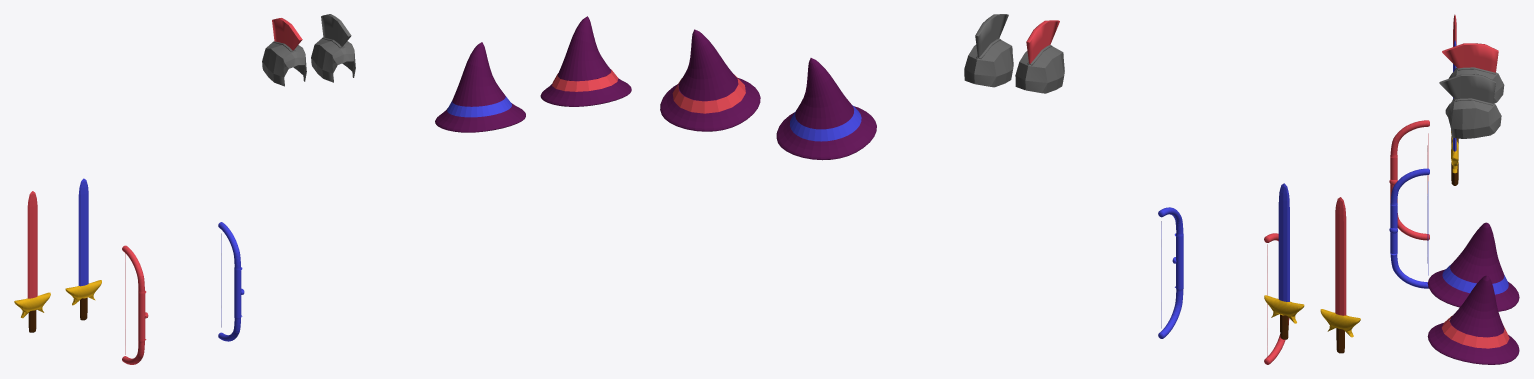
Rendered from HeroWeaponsAndOutfits.fbx.
3 views of the same model, side by side, from view 1: azimuth 30°, elevation 25°; view 2: azimuth 150°, elevation 25°; view 3: azimuth 270°, elevation 25° (orthographic). The views are drawn at different scales.
Visible parts, largest first — view 1: Blue Wiz, Red Wiz, Red Knight, Blue Knight, Blue Sword, Red Sword, Red Bow, Blue Bow, Cube.006; view 2: Blue Wiz, Red Wiz, Red Knight, Blue Knight, Blue Sword, Red Sword, Blue Bow, Cube.006; view 3: Red Wiz, Blue Wiz, Blue Knight, Red Knight, Blue Bow, Red Bow, Cube.006, Blue Sword, Red Sword.
Part boxes in pixels (<box>): Blue Wiz: <box>435,42,525,132</box>; Red Wiz: <box>540,16,631,106</box>; Red Knight: <box>262,18,306,86</box>; Blue Knight: <box>311,14,355,82</box>; Blue Sword: <box>65,178,101,320</box>; Red Sword: <box>14,191,50,332</box>; Red Bow: <box>122,245,148,364</box>; Blue Bow: <box>218,222,244,341</box>; Cube.006: <box>552,69,618,91</box>; Blue Wiz: <box>776,58,876,160</box>; Red Wiz: <box>660,29,760,131</box>; Red Knight: <box>1015,20,1064,93</box>; Blue Knight: <box>964,14,1013,87</box>; Blue Sword: <box>1264,183,1304,339</box>; Red Sword: <box>1320,197,1360,353</box>; Blue Bow: <box>1158,207,1183,338</box>; Cube.006: <box>672,74,745,113</box>; Red Wiz: <box>1427,275,1519,364</box>; Blue Wiz: <box>1427,222,1519,311</box>; Blue Knight: <box>1439,74,1501,138</box>; Red Knight: <box>1442,43,1504,103</box>; Blue Bow: <box>1389,168,1429,288</box>; Red Bow: <box>1389,120,1429,240</box>; Cube.006: <box>1441,315,1509,348</box>; Blue Sword: <box>1451,40,1458,185</box>; Red Sword: <box>1451,14,1458,143</box>.
Bounding box in the file's own units: 2869 × 1239 × 507.
